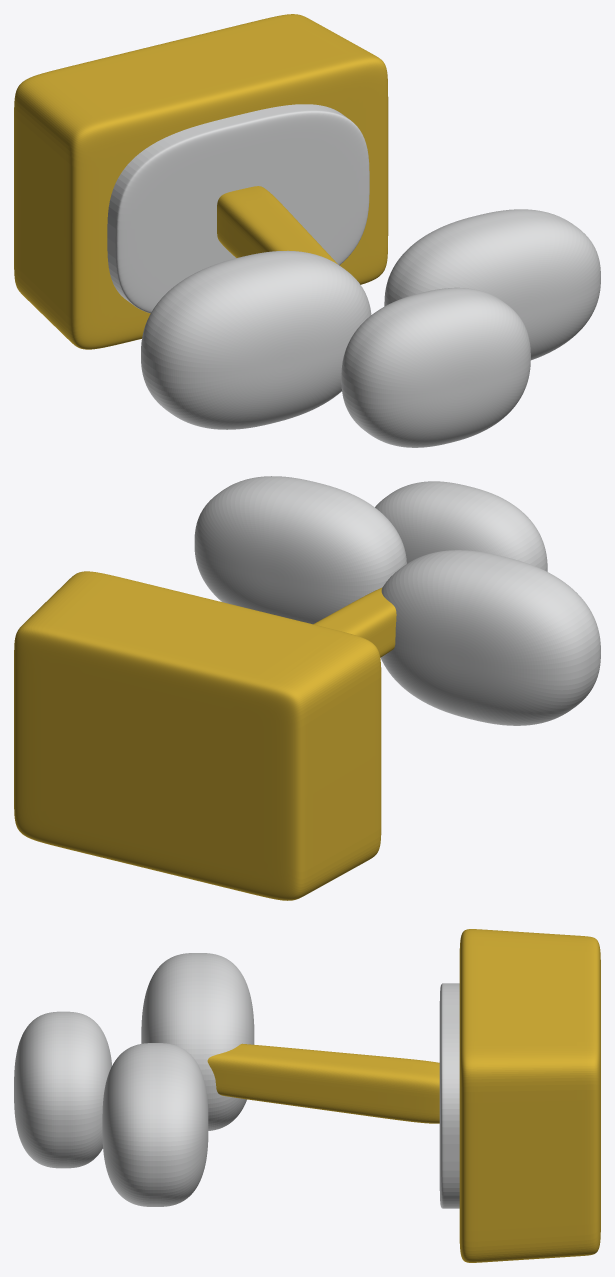
Rendered from bonsai_tree_pot_sq.glb.
3 renders of one model, top to bottom at view 1: azimuth 30°, elevation 25°; view 2: azimuth 150°, elevation 25°; view 3: azimuth 270°, elevation 25°, orthographic. The views are drawn at different scales.
Parts seen in each view (by area): view 1: superquadric_0, superquadric_1, superquadric_3, superquadric_5, superquadric_4, superquadric_2; view 2: superquadric_0, superquadric_3, superquadric_4, superquadric_5, superquadric_2; view 3: superquadric_0, superquadric_4, superquadric_2, superquadric_5, superquadric_3, superquadric_1.
Boxes of the visible parts, x1=… form: superquadric_0: x1=14, y1=14, x2=388, y2=349; superquadric_1: x1=107, y1=104, x2=369, y2=313; superquadric_3: x1=141, y1=250, x2=371, y2=429; superquadric_5: x1=341, y1=287, x2=530, y2=447; superquadric_4: x1=384, y1=209, x2=600, y2=360; superquadric_2: x1=217, y1=186, x2=338, y2=264; superquadric_0: x1=14, y1=571, x2=381, y2=900; superquadric_3: x1=381, y1=550, x2=600, y2=725; superquadric_4: x1=194, y1=476, x2=406, y2=624; superquadric_5: x1=375, y1=481, x2=547, y2=571; superquadric_2: x1=313, y1=587, x2=396, y2=657; superquadric_0: x1=459, y1=929, x2=600, y2=1262; superquadric_4: x1=102, y1=1043, x2=208, y2=1206; superquadric_2: x1=207, y1=1043, x2=439, y2=1123; superquadric_5: x1=14, y1=1011, x2=111, y2=1168; superquadric_3: x1=141, y1=953, x2=254, y2=1130; superquadric_1: x1=439, y1=983, x2=459, y2=1208.
Bounding box in the file's own units: 0.7589 × 0.3915 × 1.
